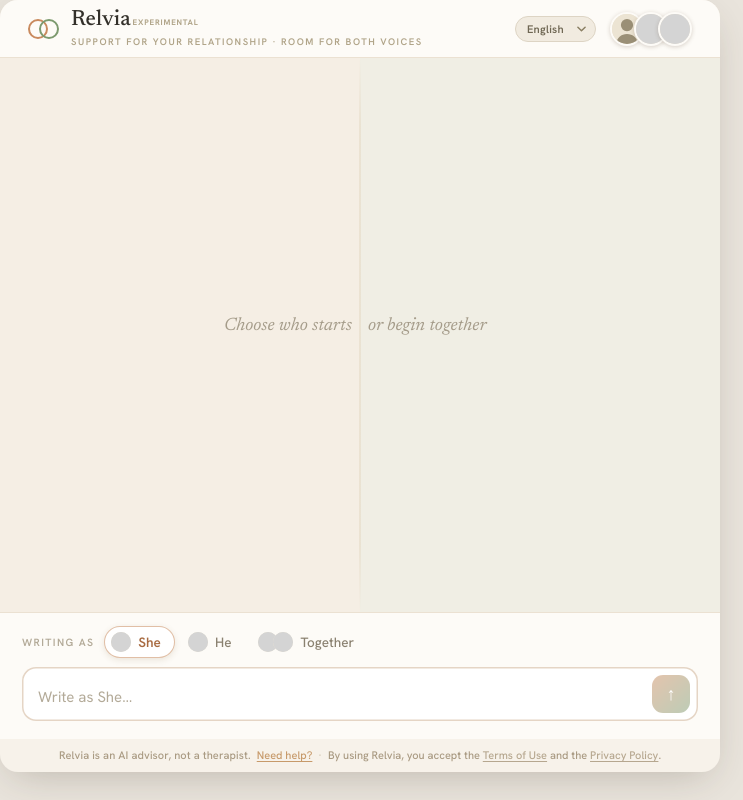
Test case: SafetyFooter — komunikaty bezpieczeństwa w trzech językach › en: rozwija pełny komunikat z numerami
This screenshot has width=743, height=800.
Click the button "Need help?" at (284, 755), box [257,748,312,762]
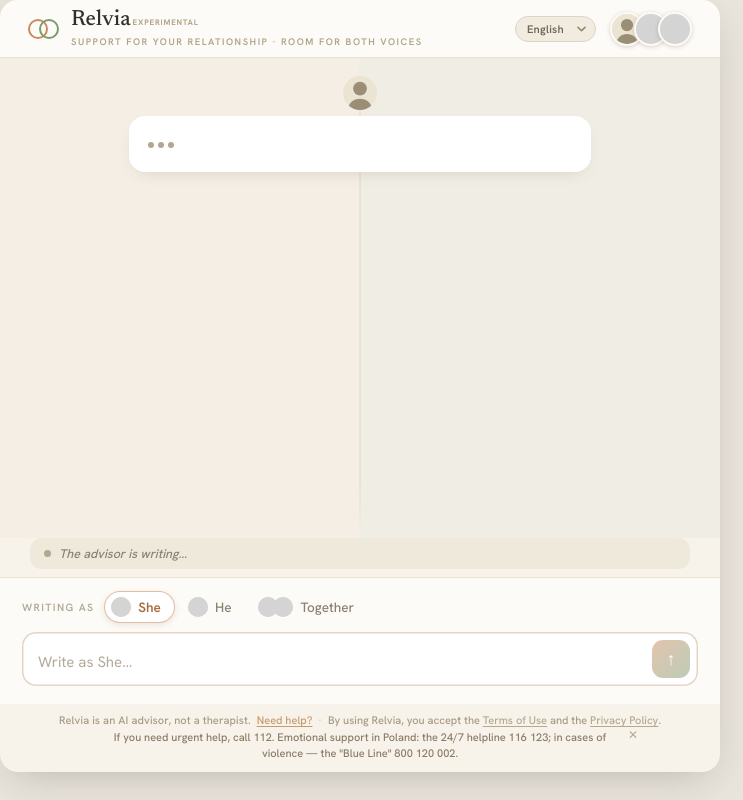
Now the element with class "safety-footer-full" shows "112", box [114,730,606,760]
Now the element with class "safety-footer-full" shows "116 123", box [114,730,606,760]
Now the element with class "safety-footer-full" shows "800 120 002", box [114,730,606,760]
